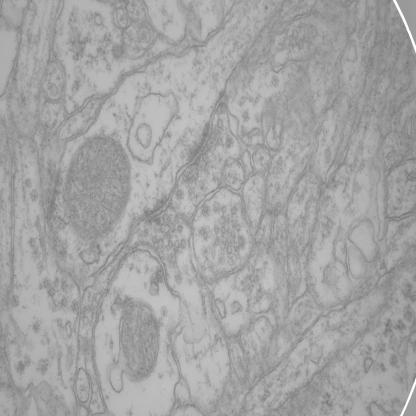mitochondria: (63, 134, 133, 239), (118, 296, 160, 384)
